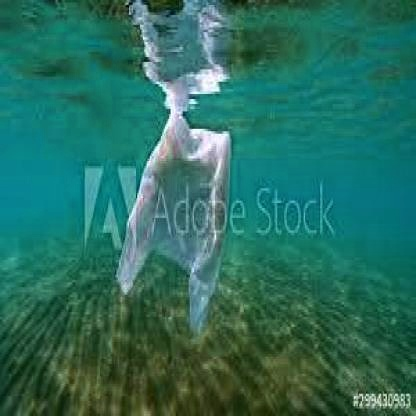pbag: (115, 107, 233, 344)
